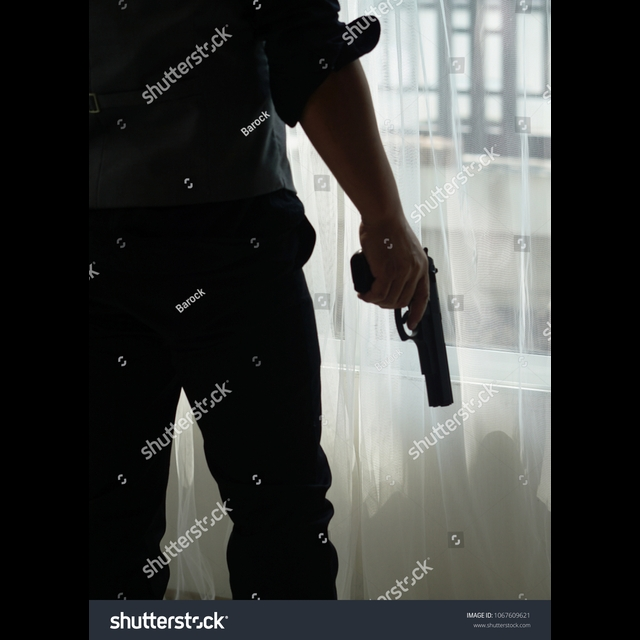SILAH: (350, 220, 460, 412)
